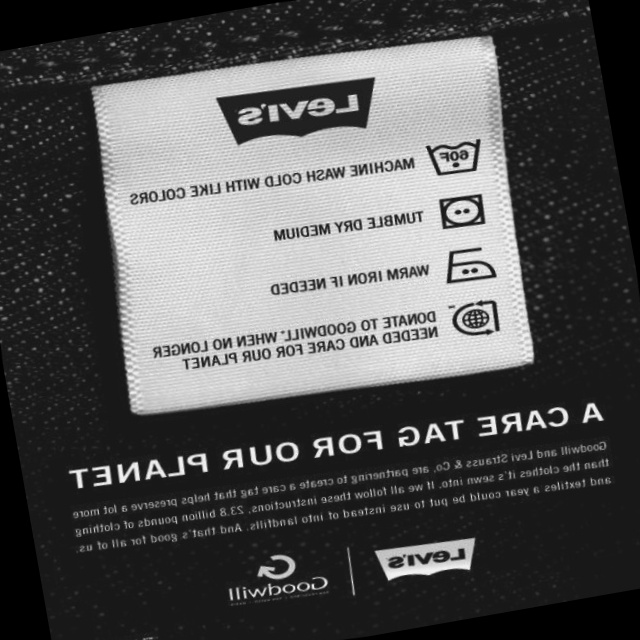30C: (419, 127, 489, 185)
iron_medium: (436, 237, 502, 292)
tumble_dry_medium: (431, 188, 493, 238)
